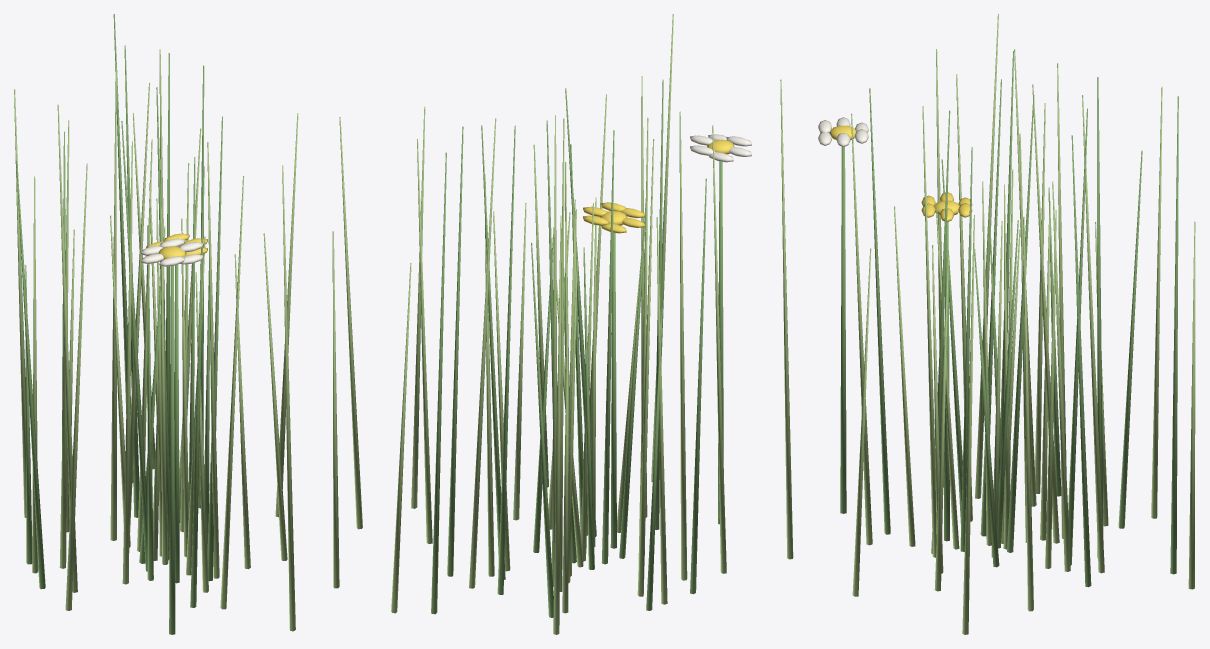
Rendered from tall_grass_clump_a.glb.
3 renders of one model, left to right at view 1: azimuth 30°, elevation 25°; view 2: azimuth 150°, elevation 25°; view 3: azimuth 270°, elevation 25°, orthographic.
Parts seen in each view (by area): view 1: blade_25, flower_0_stem, blade_43, blade_44, blade_6, blade_41, blade_13, blade_18, blade_10, blade_31, blade_28, blade_42 (+35 smaller); view 2: blade_28, blade_0, blade_32, blade_9, blade_3, blade_17, blade_42, blade_43, blade_16, blade_6, blade_1, flower_1_stem (+32 smaller); view 3: blade_0, blade_25, blade_32, flower_0_stem, blade_18, blade_30, blade_3, blade_16, blade_31, blade_41, blade_1, blade_13 (+36 smaller).
Boxes of the visible parts, left/top/right/bottom form: blade_25: left=282, top=165, right=295, bottom=631; flower_0_stem: left=169, top=265, right=175, bottom=634; blade_43: left=65, top=163, right=87, bottom=610; blade_44: left=122, top=141, right=132, bottom=584; blade_6: left=16, top=161, right=45, bottom=589; blade_41: left=207, top=142, right=219, bottom=578; blade_13: left=220, top=176, right=244, bottom=609; blade_18: left=190, top=166, right=204, bottom=607; blade_10: left=110, top=68, right=116, bottom=540; blade_31: left=339, top=117, right=362, bottom=529; blade_28: left=57, top=104, right=77, bottom=592; blade_42: left=121, top=121, right=147, bottom=571; blade_28: left=679, top=111, right=687, bottom=580; blade_0: left=431, top=152, right=446, bottom=614; blade_32: left=469, top=118, right=496, bottom=588; blade_9: left=497, top=125, right=515, bottom=594; blade_3: left=447, top=126, right=463, bottom=576; blade_17: left=637, top=139, right=654, bottom=596; blade_42: left=601, top=130, right=614, bottom=564; blade_43: left=712, top=125, right=726, bottom=573; blade_16: left=553, top=215, right=561, bottom=634; blade_6: left=690, top=178, right=706, bottom=594; blade_1: left=417, top=139, right=432, bottom=543; flower_1_stem: left=610, top=232, right=616, bottom=548; blade_0: left=1170, top=96, right=1178, bottom=574; blade_25: left=780, top=79, right=793, bottom=559; blade_32: left=1082, top=95, right=1104, bottom=573; flower_0_stem: left=840, top=146, right=846, bottom=513; blade_18: left=869, top=88, right=890, bottom=534; blade_30: left=1007, top=95, right=1034, bottom=552; blade_3: left=1071, top=135, right=1091, bottom=587; blade_16: left=1151, top=87, right=1162, bottom=518; blade_31: left=962, top=215, right=974, bottom=634; blade_41: left=922, top=106, right=936, bottom=557; blade_1: left=1023, top=217, right=1033, bottom=611; blade_13: left=851, top=113, right=872, bottom=545.
Bounding box in the file's own units: 0.6164 × 0.8786 × 0.6876.
